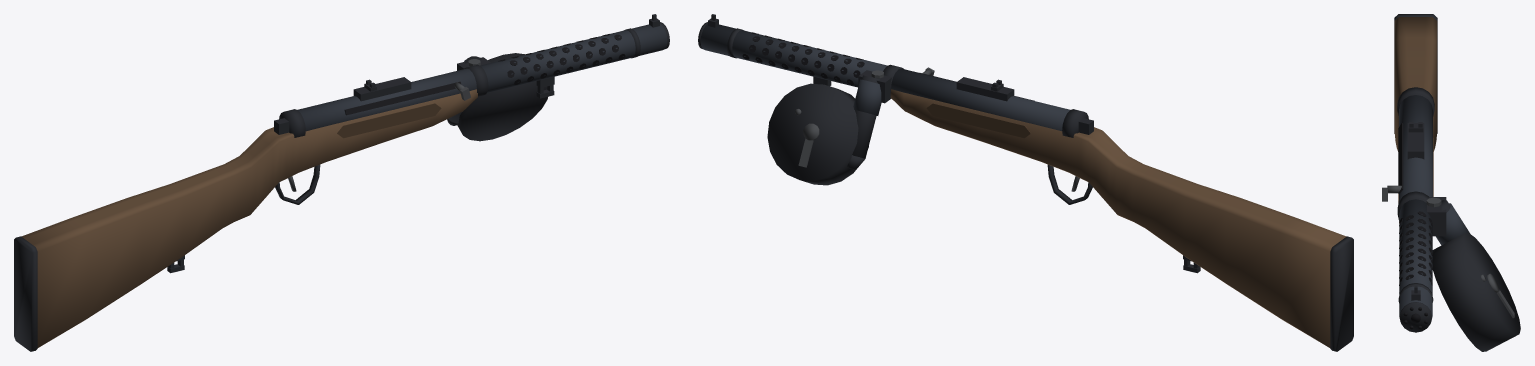
Rendered from mp18_v5_reference_unity.fbx.
3 renders of one model, left to right at view 1: azimuth 30°, elevation 25°; view 2: azimuth 150°, elevation 25°; view 3: azimuth 270°, elevation 25°, orthographic. The views are drawn at different scales.
Visible parts, largest first — view 1: stock, jacket, drum_body, receiver_tube, buttplate, finger_groove_r, cocking_slot, rear_sight_base; view 2: stock, drum_body, jacket, receiver_tube, buttplate, finger_groove_l, mag_sleeve_collar, mag_sleeve, rear_sight_base; view 3: drum_body, stock, jacket, receiver_tube, jacket_muzzle_face, mag_sleeve_collar, mag_housing, rear_sight_base, cocking_slot, buttplate, receiver_end_cap, jacket_ring (+4 smaller).
Boxes of the visible parts, left/top/right/bottom form: stock: left=21, top=89, right=477, bottom=347; jacket: left=480, top=23, right=667, bottom=92; drum_body: left=457, top=53, right=547, bottom=141; receiver_tube: left=297, top=68, right=476, bottom=131; buttplate: left=14, top=236, right=37, bottom=351; finger_groove_r: left=337, top=103, right=441, bottom=138; cocking_slot: left=344, top=81, right=460, bottom=115; rear_sight_base: left=353, top=77, right=411, bottom=101; stock: left=890, top=89, right=1346, bottom=347; drum_body: left=767, top=83, right=868, bottom=185; jacket: left=700, top=23, right=887, bottom=87; receiver_tube: left=891, top=68, right=1070, bottom=131; buttplate: left=1330, top=236, right=1353, bottom=351; finger_groove_l: left=926, top=103, right=1030, bottom=138; mag_sleeve_collar: left=853, top=79, right=881, bottom=115; mag_sleeve: left=852, top=75, right=879, bottom=158; rear_sight_base: left=956, top=77, right=1014, bottom=101; drum_body: left=1432, top=233, right=1520, bottom=351; stock: left=1394, top=17, right=1437, bottom=222; jacket: left=1399, top=199, right=1432, bottom=321; receiver_tube: left=1399, top=95, right=1432, bottom=200; jacket_muzzle_face: left=1400, top=302, right=1431, bottom=332; mag_sleeve_collar: left=1436, top=203, right=1470, bottom=245; mag_housing: left=1427, top=197, right=1446, bottom=236; rear_sight_base: left=1407, top=123, right=1424, bottom=159; cocking_slot: left=1398, top=123, right=1403, bottom=194; buttplate: left=1394, top=14, right=1437, bottom=133; receiver_end_cap: left=1397, top=87, right=1434, bottom=116; jacket_ring: left=1397, top=191, right=1429, bottom=220.
Bounding box in the file's own units: 0.81 × 0.2168 × 0.1303.
